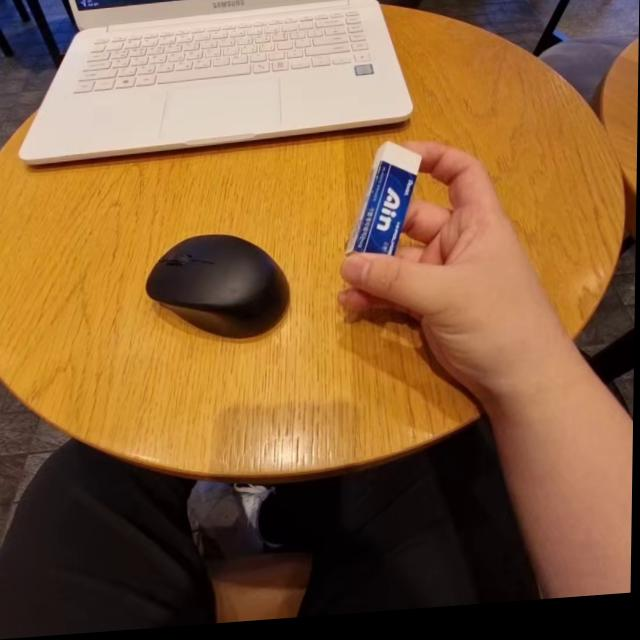grab_eraser: (342, 139, 565, 402)
mouse: (150, 230, 300, 356)
